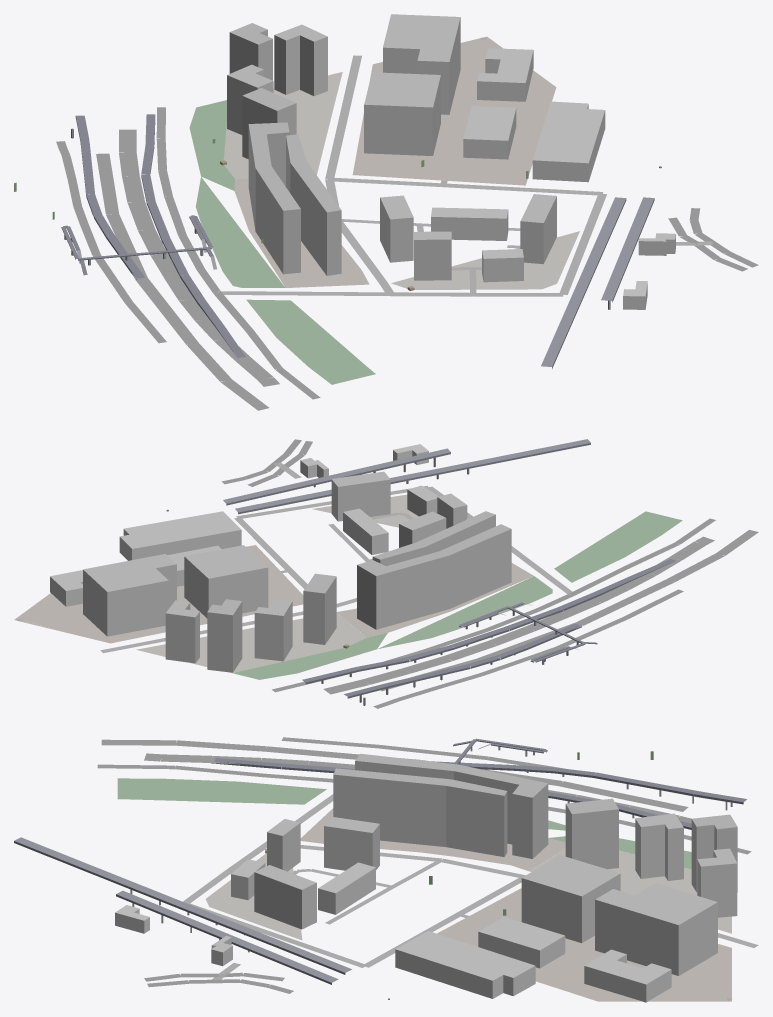
The picture shows the model from 3 angles, top to bottom: view 1: azimuth 30°, elevation 25°; view 2: azimuth 150°, elevation 25°; view 3: azimuth 270°, elevation 25°; orthographic projection. The views are drawn at different scales.
Bounding box in the file's own units: 510 × 60.76 × 606.
